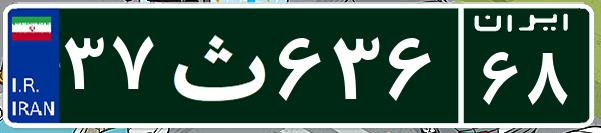3: (330, 28, 385, 110), (57, 26, 110, 107)
6: (385, 28, 445, 110), (273, 28, 330, 110), (475, 38, 525, 113)
7: (110, 28, 158, 105)
8: (525, 38, 570, 115)
ث: (158, 15, 273, 115)
